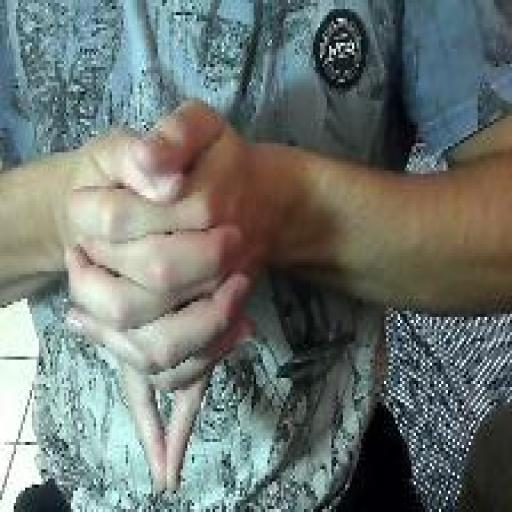Tatsu -dragon-: (60, 91, 262, 500)
